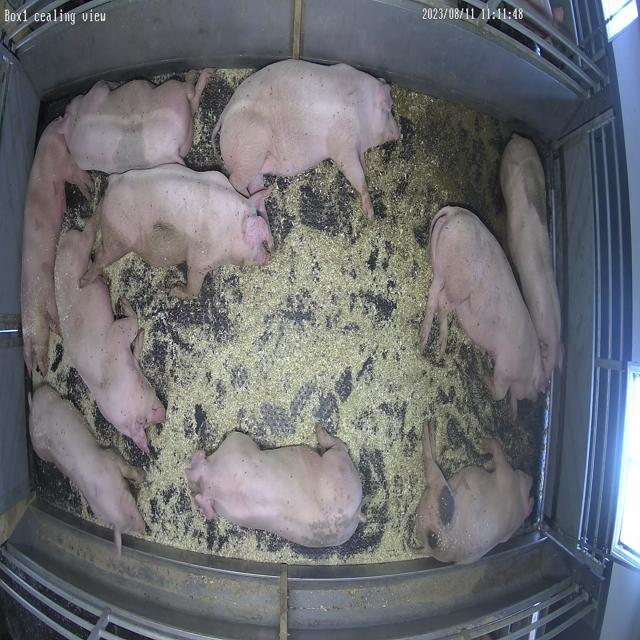Dirt: (384, 84, 511, 248)
Pig: (21, 70, 210, 372), (213, 59, 401, 218), (80, 164, 273, 298), (54, 230, 165, 452), (423, 207, 545, 406), (187, 427, 365, 549), (29, 385, 144, 560), (417, 425, 535, 564), (501, 134, 564, 382), (63, 69, 210, 172)
